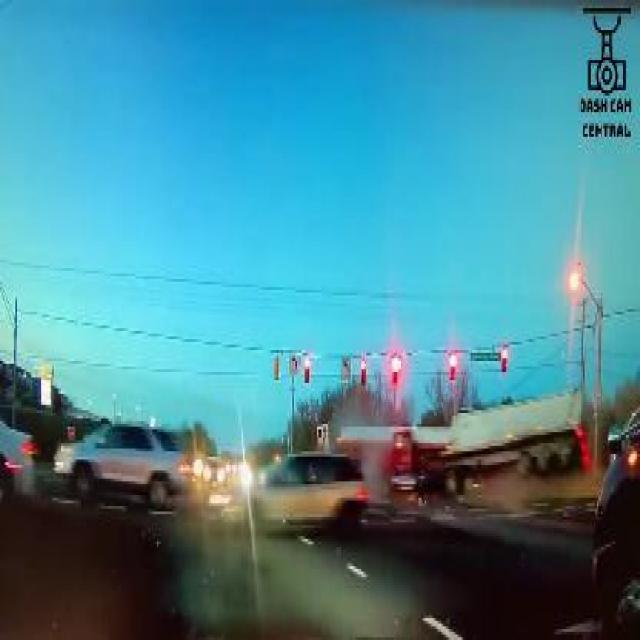accident: (383, 388, 595, 530)
